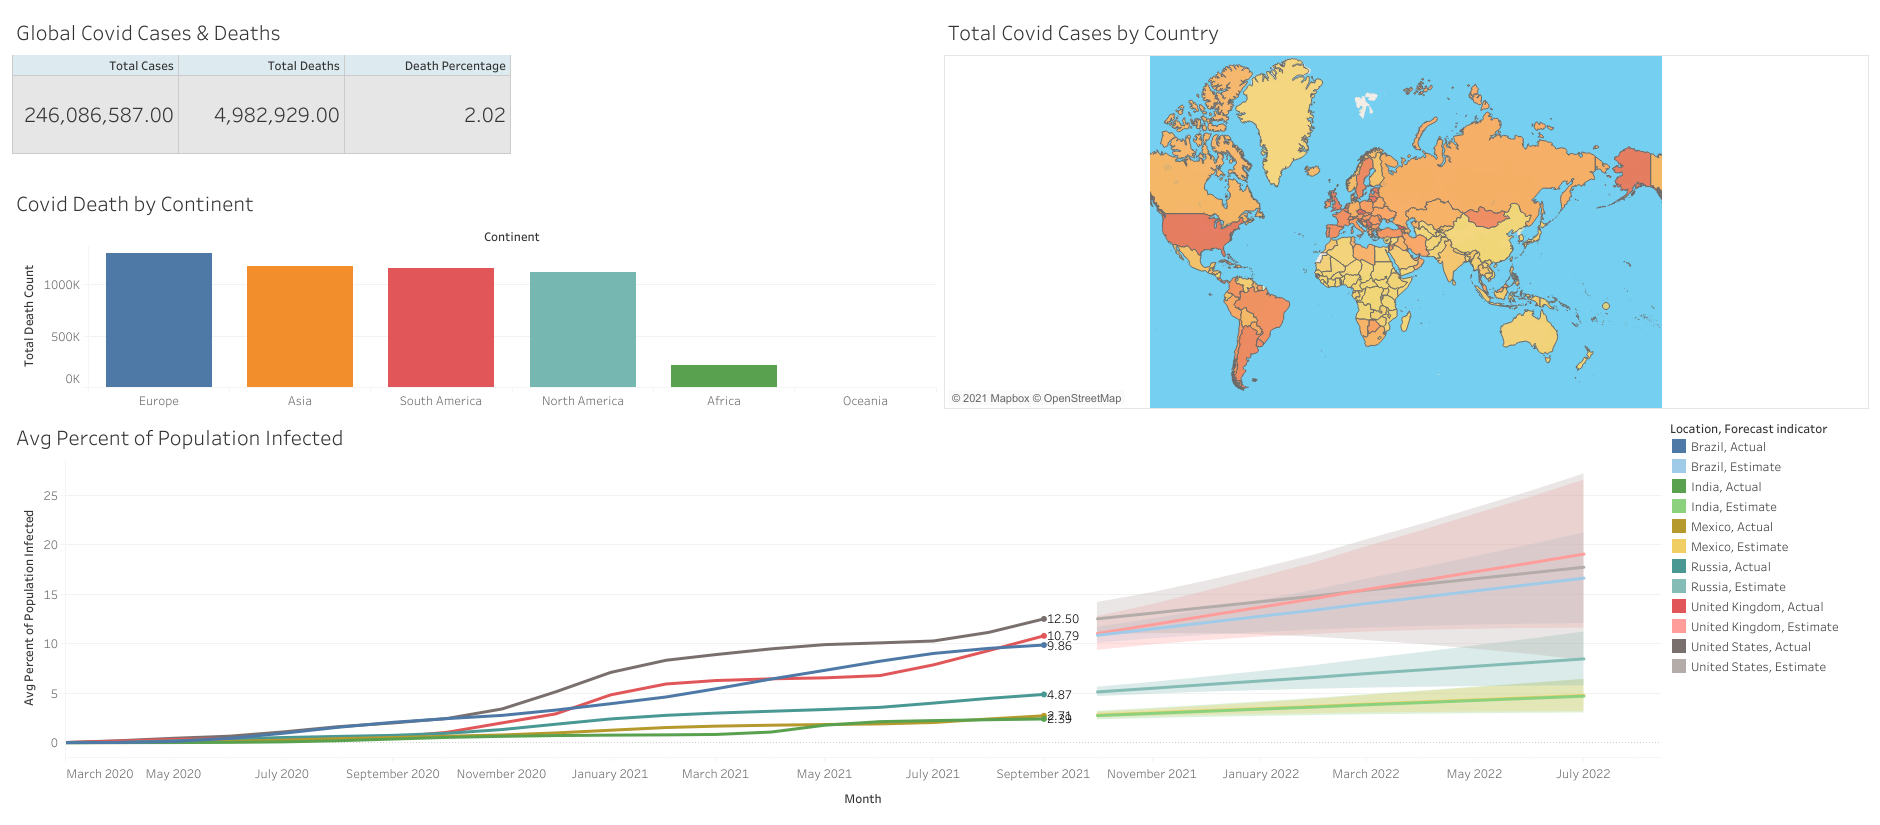

The dashboard page shown, as its layout file describes it:
{"tool":"tableau","page":{"name":"Dashboard 1","canvas":[1000,1000],"units":"permille","ordinal":0},"visuals":[{"type":"worksheet","title":"Sheet 1","mark":"Automatic","box":[4.7,8.8,495.3,208]},{"type":"worksheet","title":"Sheet 3","mark":"Automatic","box":[500,8.8,495.3,491.2]},{"type":"worksheet","title":"Sheet 2","mark":"Automatic","rows":["TotalDeathCount"],"cols":["location"],"box":[4.7,216.8,495.3,283.2]},{"type":"worksheet","title":"Sheet 4","mark":"Automatic","rows":["PercentPopulationInfected"],"cols":["date"],"box":[4.7,500,880.1,491.2]},{"type":"legend","title":"Sheet 4","param":"[federated.0acrbtk1iwzvuq15ui1vs1m7czb9].[none:Location:nk]\n[federated.0acrbtk1i","box":[884.8,500,110.5,491.2]}]}

Visuals, with their boxes on the dashboard's canvas, which has no fixed pixel size, in thousandths of its width and height (x1, y1, x2, y2). These are canvas units, not pixel positions in the 1880x825 screenshot, which may show the page scaled, cropped or inside an application window:
"Sheet 1" worksheet: l=5, t=9, r=500, b=217
"Sheet 3" worksheet: l=500, t=9, r=995, b=500
"Sheet 2" worksheet: l=5, t=217, r=500, b=500
"Sheet 4" worksheet: l=5, t=500, r=885, b=991
"Sheet 4" legend: l=885, t=500, r=995, b=991
